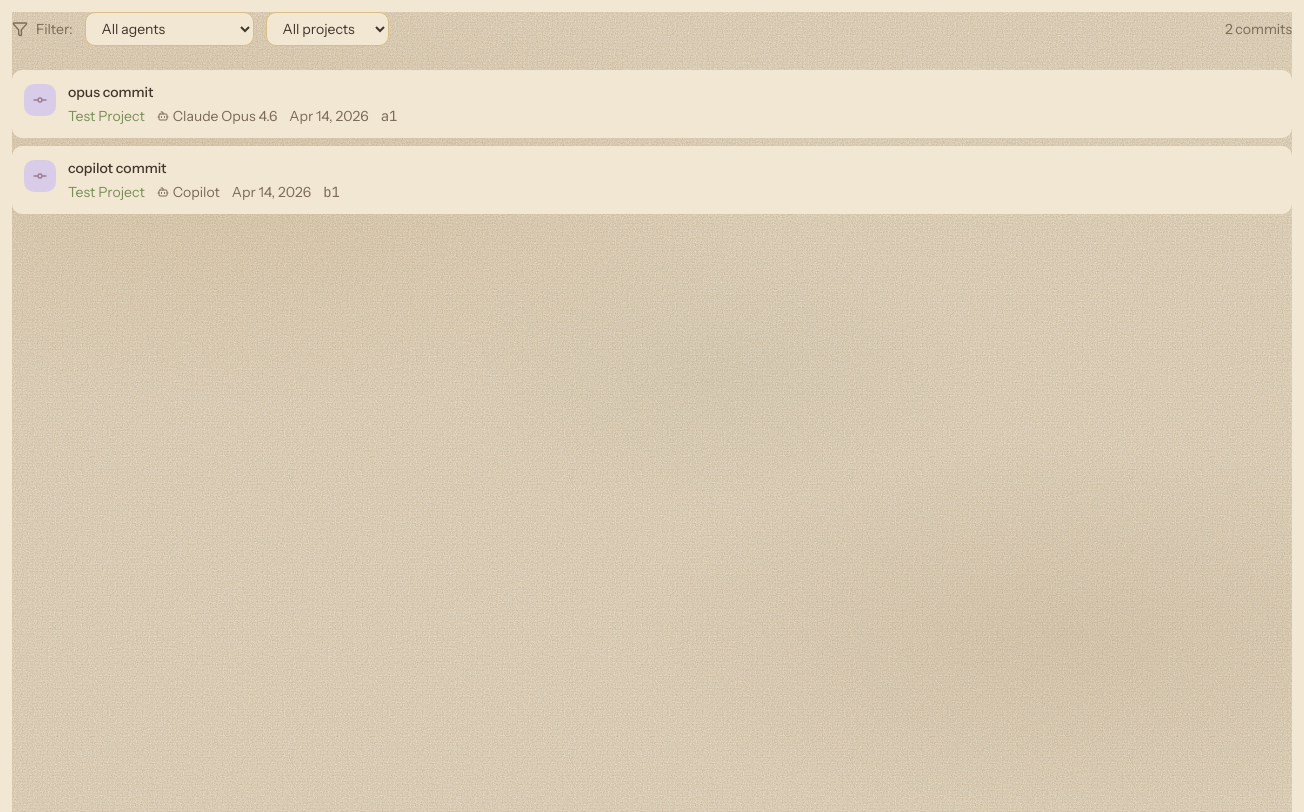
Test: AgentActivityFeed › filters by agent when selected
# Select Copilot filter
Step 1. Select "Copilot (1)" in the 1st dropdown → (169, 29), box [85,12,254,46]
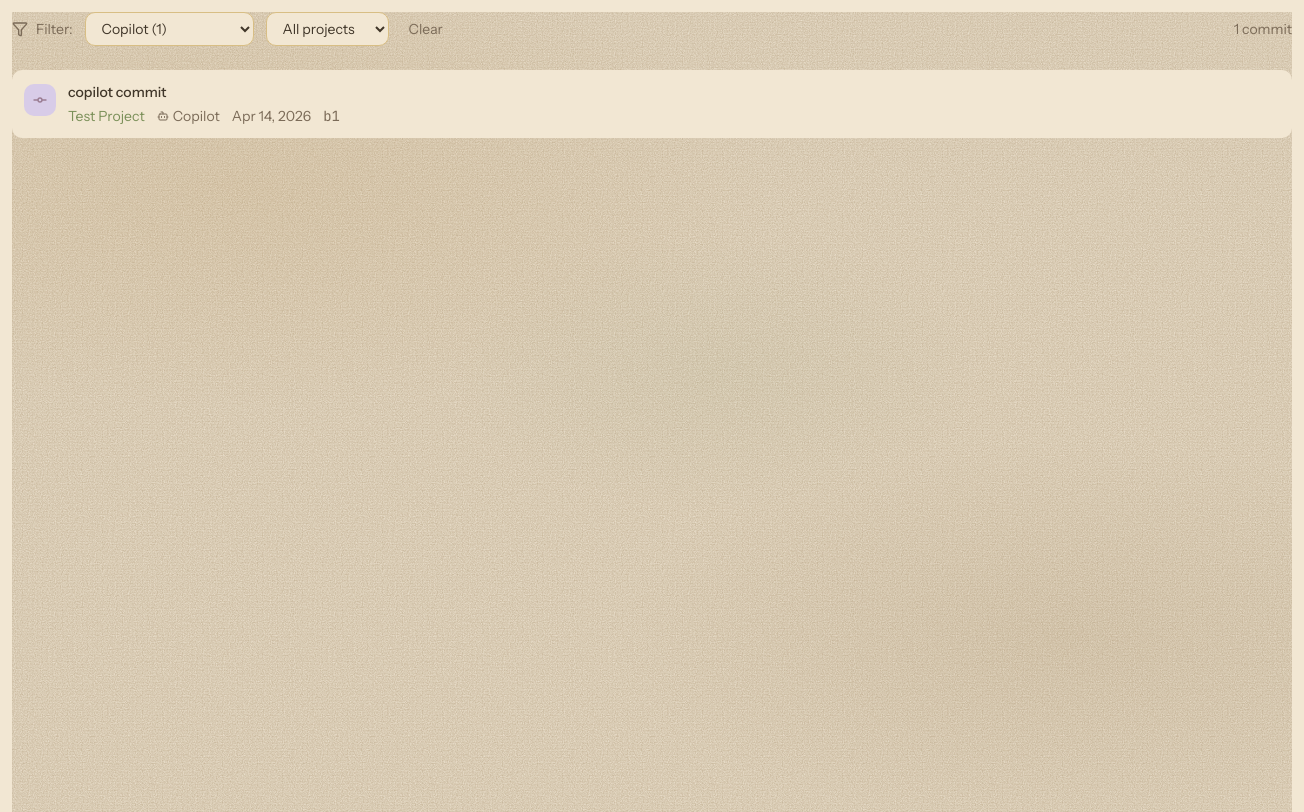
Expected: the text "copilot commit" is shown, [68,83,167,101]
Expected: the text "opus commit" is gone
Expected: the text "1 commit" is shown, [1234,19,1292,39]
